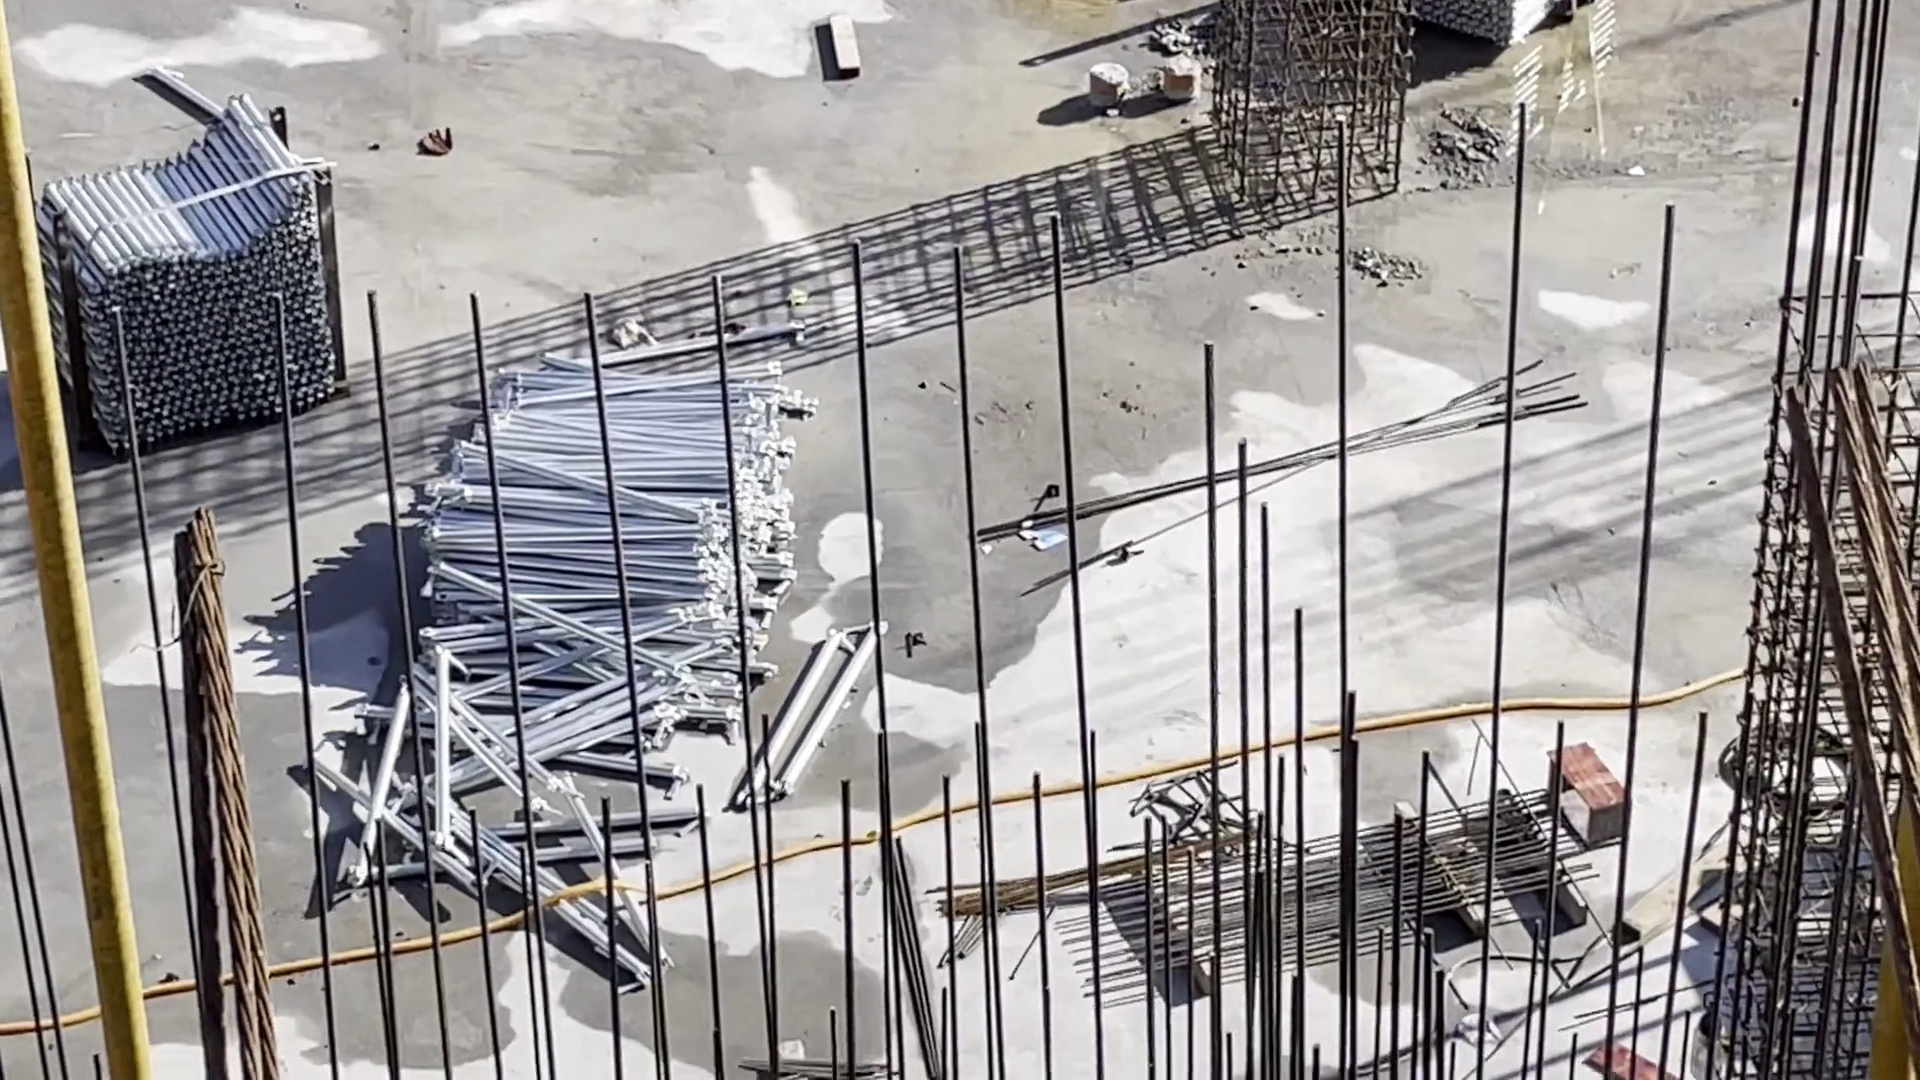scaffold: (352, 353, 806, 998), (36, 87, 349, 454)
